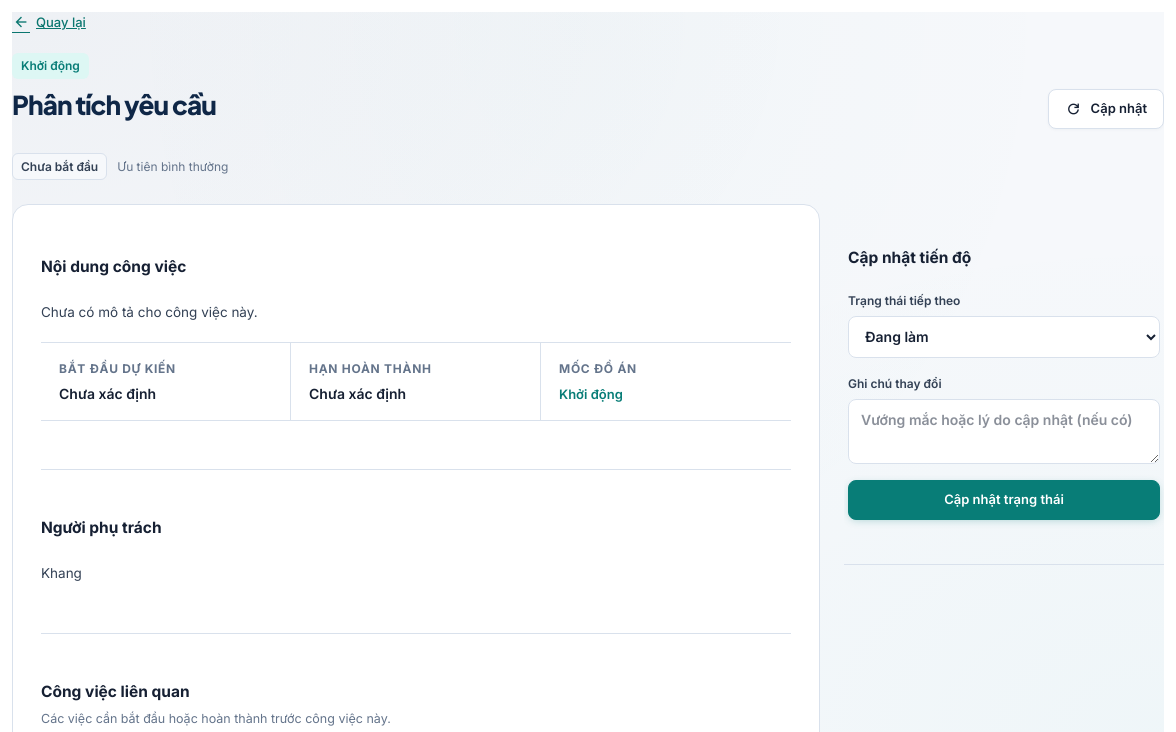
Test: TaskDetailPage › retains the reason when BE rejects a state update
Type "Chờ bộ dữ liệu" into the text box labelled "Ghi chú thay đổi".
click(1004, 432); type("Chờ bộ dữ liệu")  # box [848,399,1160,464]
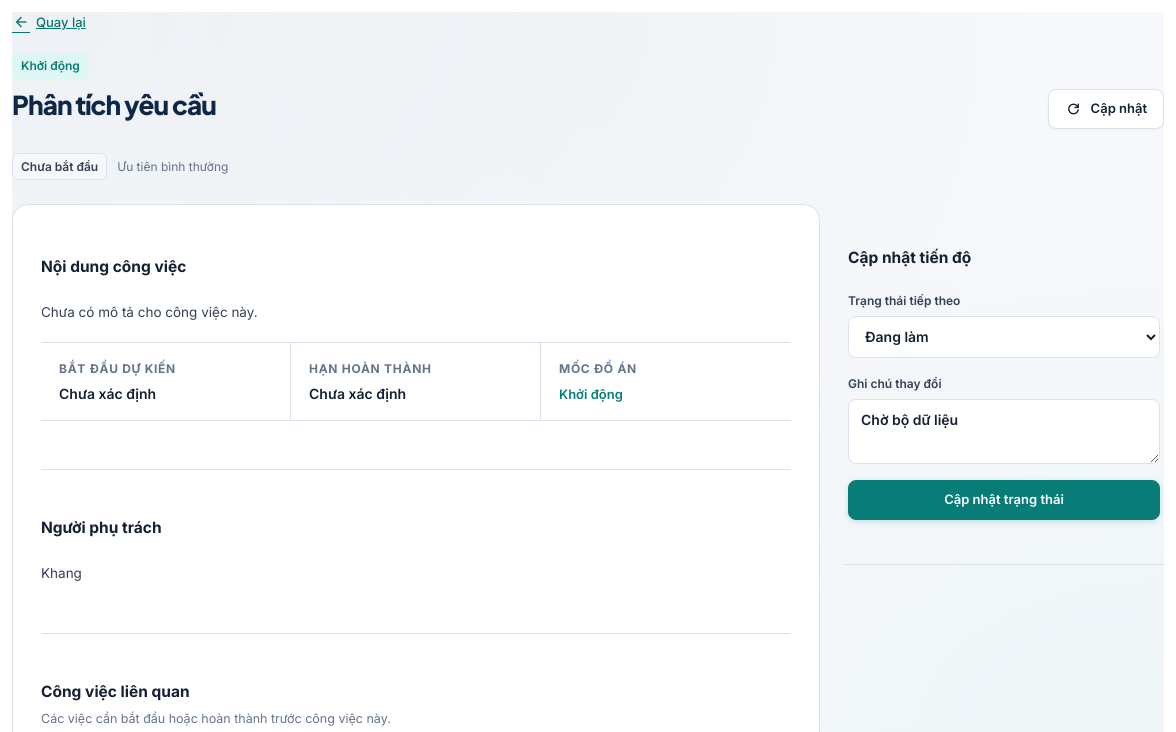
Click the button "Cập nhật trạng thái".
click(1004, 500)  # box [848,480,1160,520]
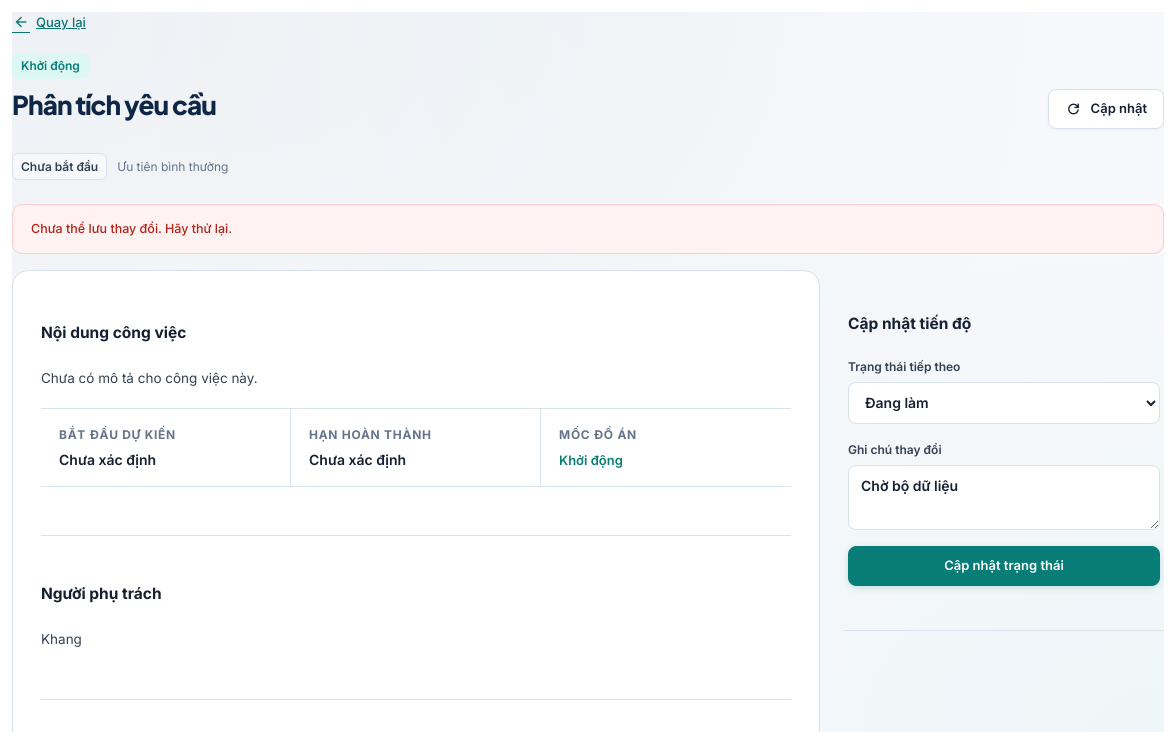
Now the text "Chưa thể lưu thay đổi. Hãy thử lại." is shown, box [12,204,1164,254]
